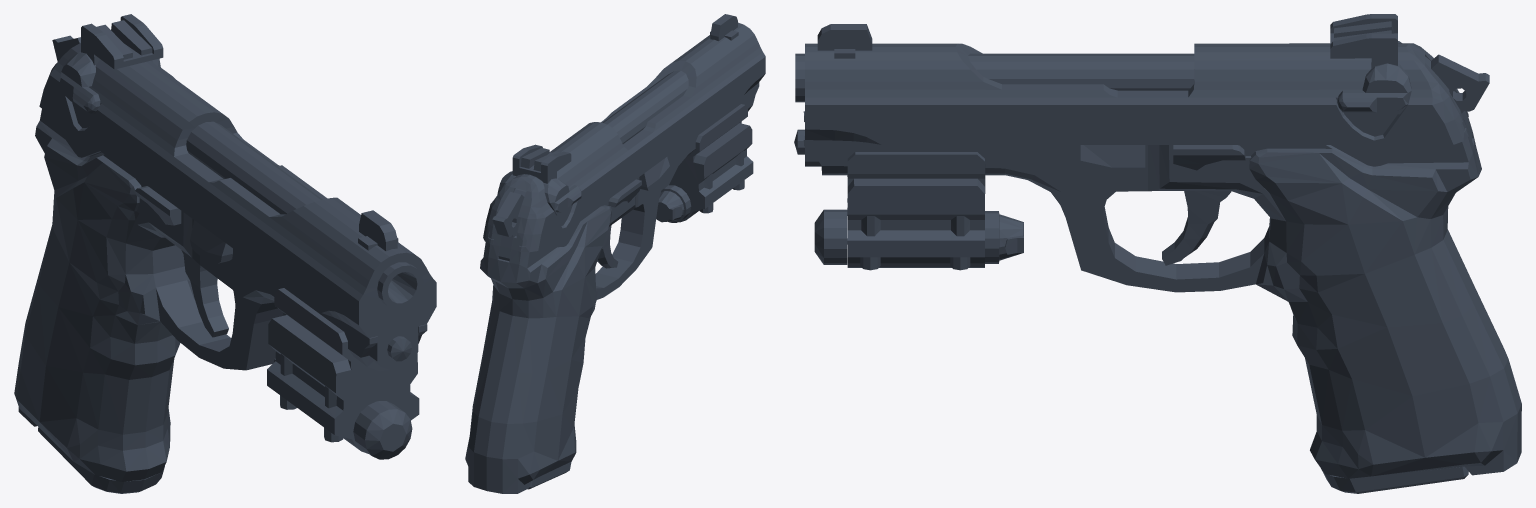
File: centurion_original.obj
3 renders of one model, left to right at view 1: azimuth 30°, elevation 25°; view 2: azimuth 150°, elevation 25°; view 3: azimuth 270°, elevation 25°, orthographic. The views are drawn at different scales.
Visible parts, largest first — view 1: centurion_Original; view 2: centurion_Original; view 3: centurion_Original.
Part boxes in pixels (<box>): centurion_Original: <box>14,14,436,493</box>; centurion_Original: <box>465,14,765,493</box>; centurion_Original: <box>794,14,1521,493</box>.
Bounding box in the file's own units: 4.19 × 17.13 × 24.78.
